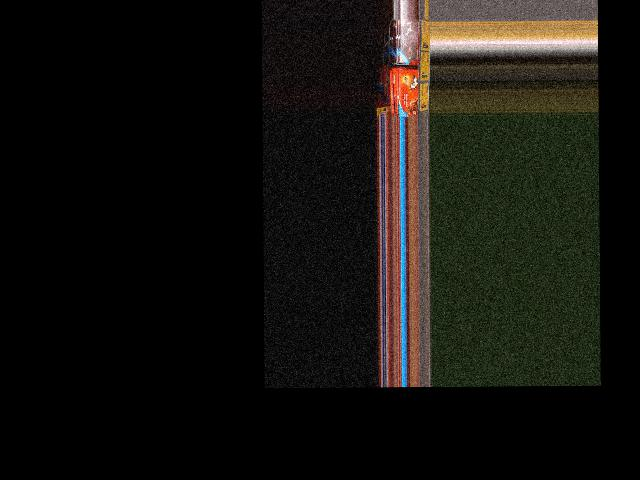chocolate: (396, 18, 423, 61)
